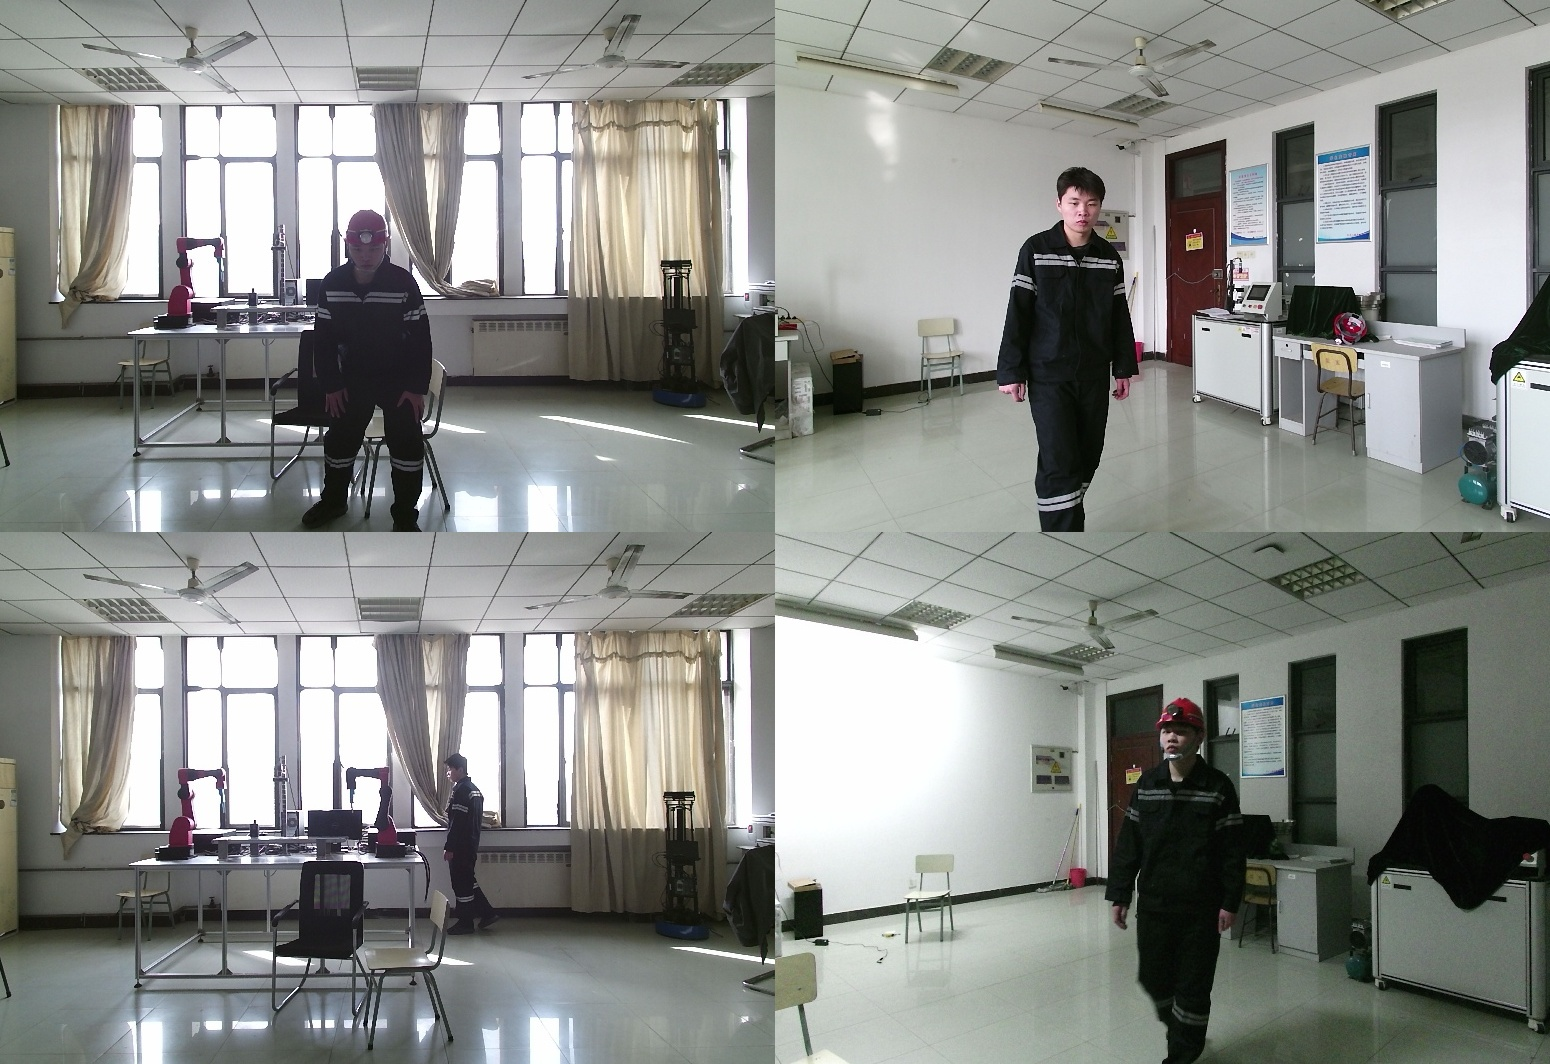person: (1104, 697, 1257, 1064), (999, 168, 1137, 532), (308, 211, 451, 532), (445, 752, 503, 941)
